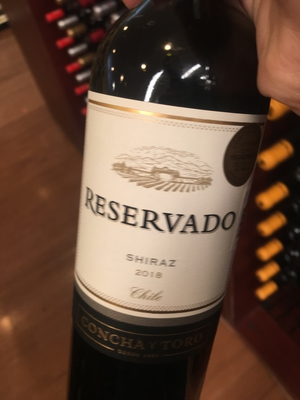reservado shiraz: (71, 20, 253, 400)
